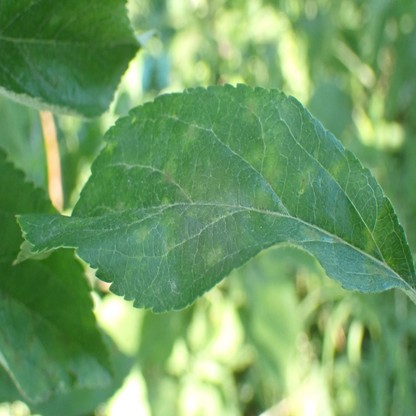powdery_mildew: (170, 281, 178, 290)
scab: (244, 146, 284, 227), (186, 175, 232, 220), (156, 197, 178, 229), (160, 153, 176, 185), (362, 262, 386, 282), (180, 121, 198, 147), (361, 225, 377, 253), (242, 94, 257, 122), (126, 255, 144, 278), (297, 168, 313, 192), (205, 246, 222, 264), (329, 160, 344, 180), (163, 230, 174, 251), (303, 224, 317, 240), (133, 227, 146, 244), (105, 138, 117, 151)
